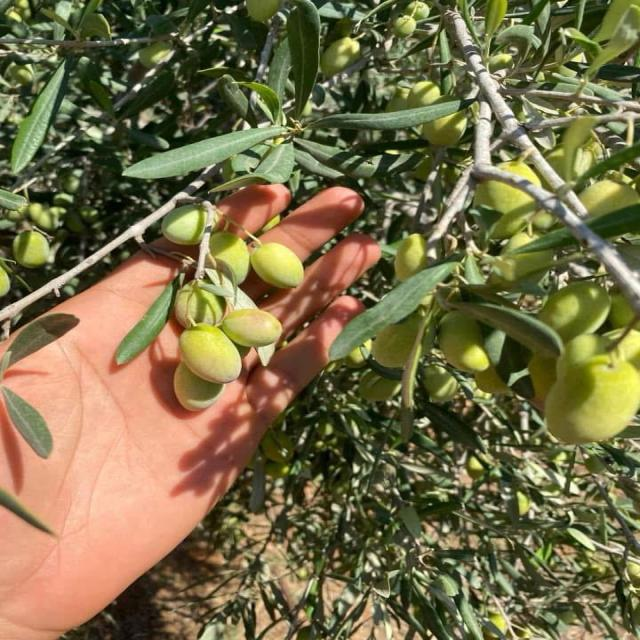Healthy: (545, 353, 639, 445), (180, 323, 243, 385), (250, 239, 304, 289), (219, 308, 281, 349)
